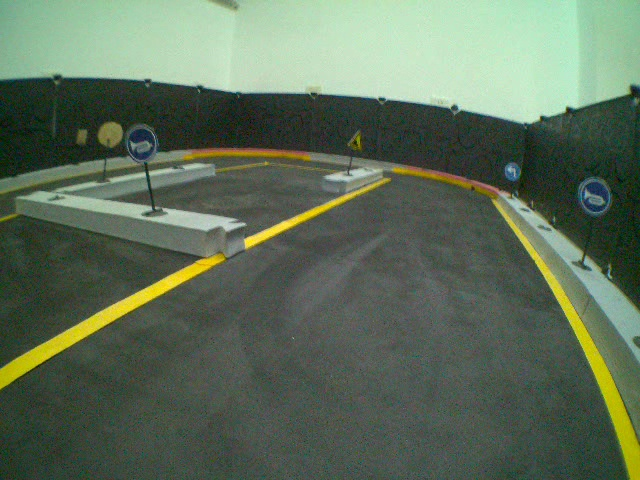fast: (345, 128, 365, 152)
horn: (125, 122, 158, 164), (578, 177, 612, 216)
turn: (504, 160, 522, 182)
